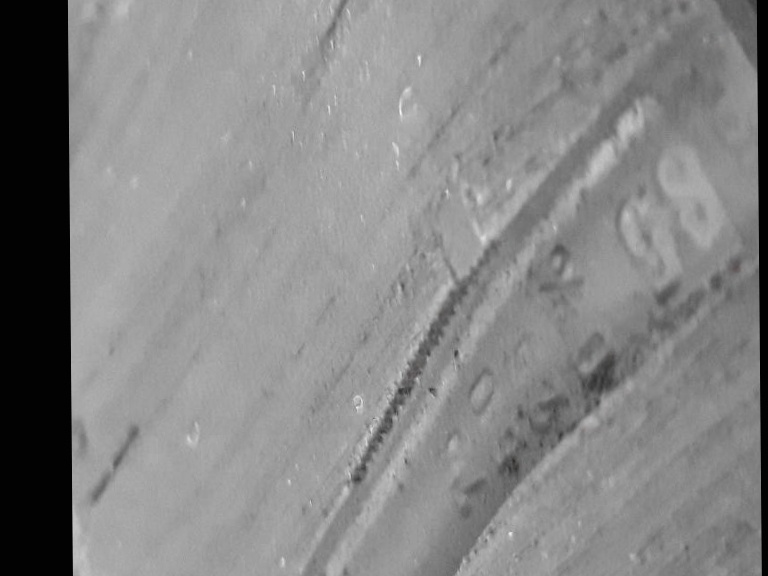temoin:0: (423, 187, 506, 321)
